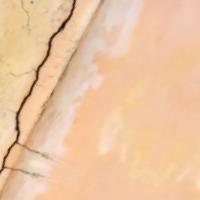crack: (1, 0, 85, 185)
